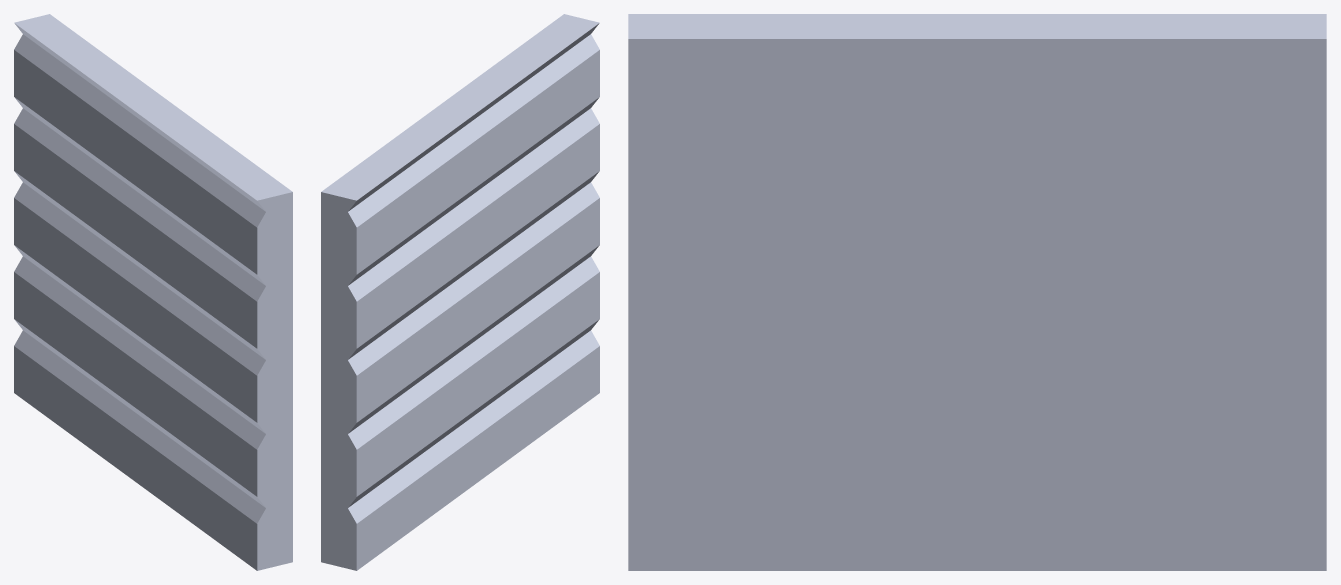
The picture shows the model from 3 angles, left to right: view 1: azimuth 30°, elevation 25°; view 2: azimuth 150°, elevation 25°; view 3: azimuth 270°, elevation 25°; orthographic projection. The views are drawn at different scales.
Parts seen in each view (by area): view 1: object_043; view 2: object_043; view 3: object_043.
Boxes of the visible parts, <box> form: object_043: <box>14,14,292,570</box>; object_043: <box>321,14,599,570</box>; object_043: <box>628,14,1326,570</box>.
Size of the model in its own units: 0.625 by 6.18 by 7.35.
